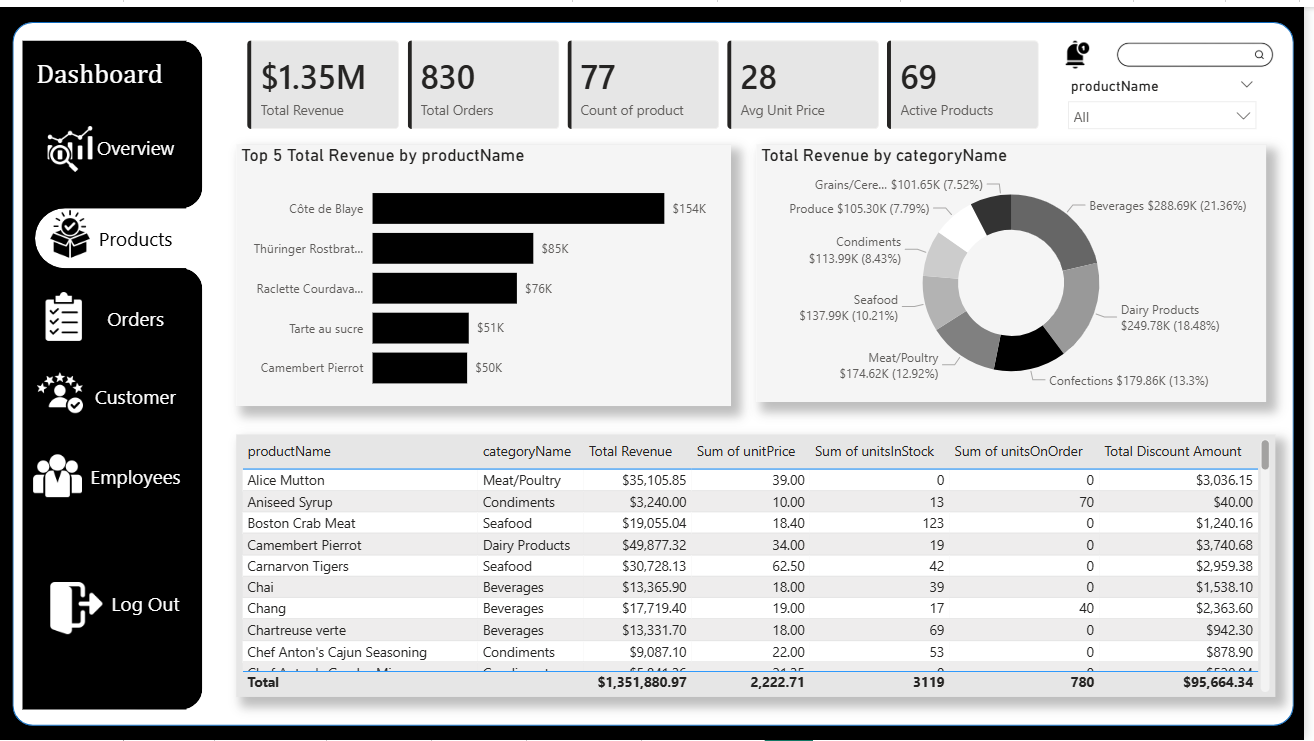

The page's visual inventory and layout, read from the dashboard file:
{"tool":"powerbi","page":{"name":"Product","canvas":[1280,720],"ordinal":2},"visuals":[{"type":"shape","box":[12.3,14.7,1257.7,690.8],"z":0},{"type":"shape","box":[22.1,33.1,160.7,656.4],"z":1000},{"type":"shape","box":[115.3,33.1,83.4,164.4],"z":2000},{"type":"shape","box":[34.4,197.5,300.6,58.9],"z":3000},{"type":"shape","box":[115.3,256.4,83.4,433.1],"z":4000},{"type":"image","box":[1066.3,0,213.5,93.3],"z":5000},{"type":"image","box":[1038,33.1,39.3,27],"z":6000},{"type":"cardVisual","fields":{"Data":["DaxM.Total Revenue","DaxM.Total Orders","Count(Productsdim.productName)","DaxM.Avg Unit Price","DaxM.Active Products"]},"box":[225.8,16,812.3,121.5],"z":7000},{"type":"clusteredBarChart","fields":{"Y":["DaxM.Total Revenue"],"Category":["Productsdim.productName"]},"box":[231.9,135,485.9,256.4],"z":8000},{"type":"tableEx","fields":{"Values":["Productsdim.productName","Categorydim.categoryName","DaxM.Total Revenue","Sum(Productsdim.unitPrice)","Sum(Productsdim.unitsInStock)","Sum(Productsdim.unitsOnOrder)","DaxM.Total Discount Amount"]},"box":[231.9,419.6,1019.6,257.7],"z":9000},{"type":"donutChart","fields":{"Category":["Categorydim.categoryName"],"Y":["DaxM.Total Revenue"]},"box":[742.3,135,500.6,252.8],"z":10000},{"type":"slicer","fields":{"Values":["Productsdim.productName"]},"box":[1038,63.8,204.9,57.7],"z":11000},{"type":"actionButton","box":[83.4,115.3,99.4,44.2],"z":12000},{"type":"image","box":[34.4,115.3,68.7,47.9],"z":13000},{"type":"actionButton","box":[83.4,206.1,99.4,40.5],"z":14000},{"type":"actionButton","box":[83.4,284.3,99.4,40.5],"z":15000},{"type":"actionButton","box":[83.4,362.4,99.4,40.5],"z":16000},{"type":"actionButton","box":[83.4,440.5,99.4,40.5],"z":17000},{"type":"image","box":[34.4,198.8,68.7,47.9],"z":18000},{"type":"image","box":[28.2,279.8,68.7,47.9],"z":19000},{"type":"image","box":[25.2,354.6,68.7,47.9],"z":20000},{"type":"image","box":[22.1,433.1,68.7,47.9],"z":21000},{"type":"textbox","box":[30.7,46.6,152.1,46.6],"z":22000},{"type":"actionButton","box":[93.3,564.4,99.4,40.5],"z":23000},{"type":"image","box":[42.9,564.4,63.8,51.5],"z":24000}]}

Visuals, with their boxes in screenshot pixels (x1, y1, x2, y2), scaled from the page's 1280x720 canvas onto the 1314x741 screenshot:
shape: box=[13, 15, 1304, 726]
shape: box=[23, 34, 188, 710]
shape: box=[118, 34, 204, 203]
shape: box=[35, 203, 344, 264]
shape: box=[118, 264, 204, 710]
image: box=[1095, 0, 1313, 96]
image: box=[1066, 34, 1106, 62]
cardVisual - DaxM.Total Revenue x DaxM.Total Orders: box=[232, 16, 1066, 142]
clusteredBarChart - DaxM.Total Revenue x Productsdim.productName: box=[238, 139, 737, 403]
tableEx - Productsdim.productName x Categorydim.categoryName: box=[238, 432, 1285, 697]
donutChart - Categorydim.categoryName x DaxM.Total Revenue: box=[762, 139, 1276, 399]
slicer - Productsdim.productName: box=[1066, 66, 1276, 125]
actionButton: box=[86, 119, 188, 164]
image: box=[35, 119, 106, 168]
actionButton: box=[86, 212, 188, 254]
actionButton: box=[86, 293, 188, 334]
actionButton: box=[86, 373, 188, 415]
actionButton: box=[86, 453, 188, 495]
image: box=[35, 205, 106, 254]
image: box=[29, 288, 99, 337]
image: box=[26, 365, 96, 414]
image: box=[23, 446, 93, 495]
textbox: box=[32, 48, 188, 96]
actionButton: box=[96, 581, 198, 623]
image: box=[44, 581, 110, 634]
